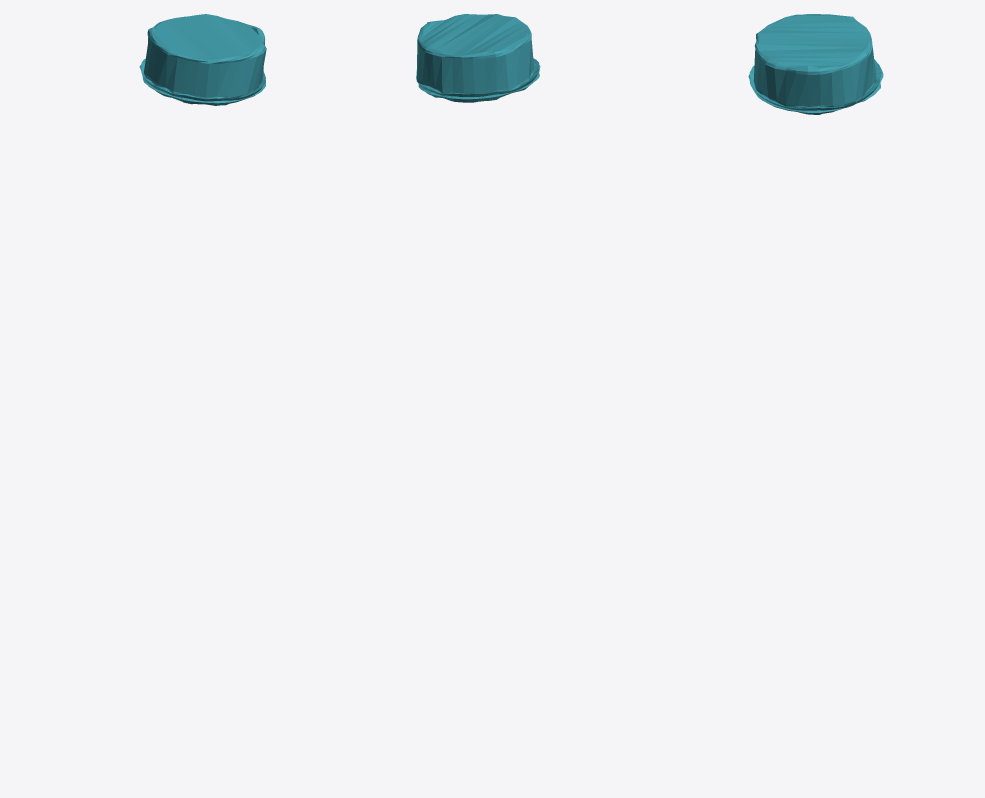
The model's file is crush_low_0.obj.
3 views of the same model, side by side, from view 1: azimuth 30°, elevation 25°; view 2: azimuth 150°, elevation 25°; view 3: azimuth 270°, elevation 25° (orthographic). The views are drawn at different scales.
Visible parts, largest first — view 1: model; view 2: model; view 3: model.
Boxes of the visible parts, x1=… form: model: x1=139, y1=14, x2=266, y2=105; model: x1=416, y1=14, x2=540, y2=102; model: x1=748, y1=14, x2=883, y2=114.
Size of the model in its own units: 0.087 by 0.2177 by 0.0786.
Materials: 1 (1 with a texture image).
